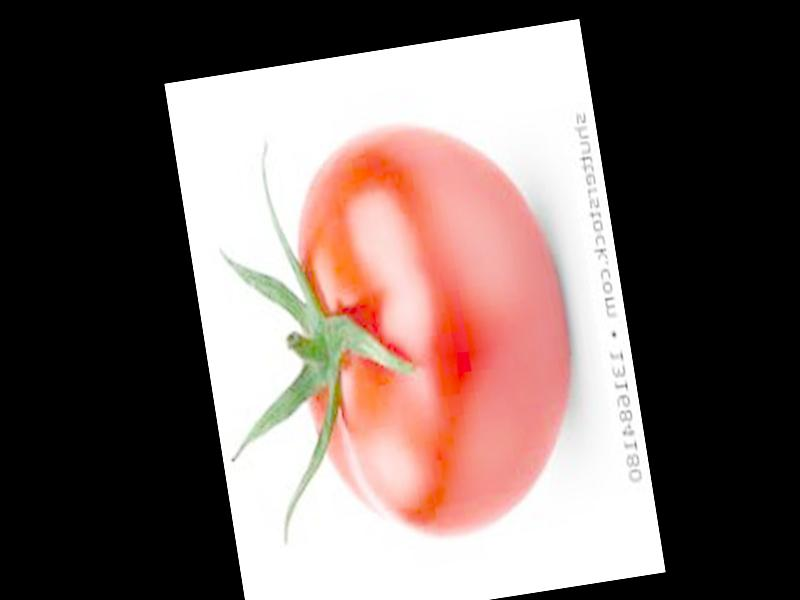Tomato: (271, 105, 593, 556)
